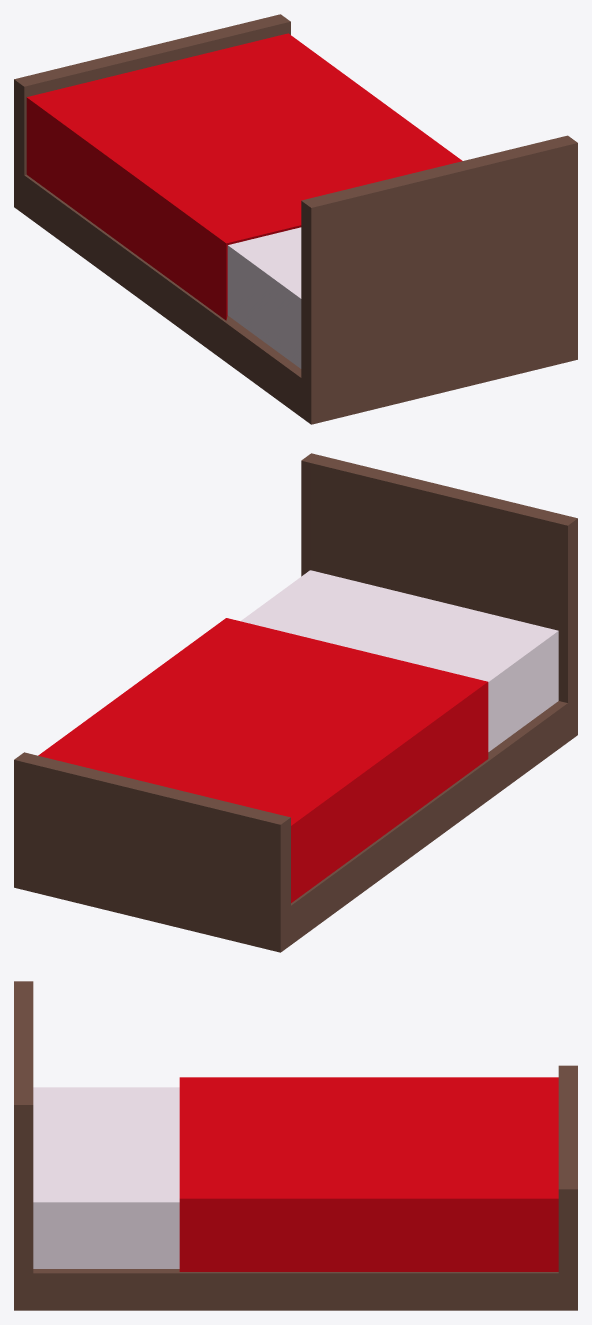
Rendered from bed.fbx.
3 renders of one model, top to bottom at view 1: azimuth 30°, elevation 25°; view 2: azimuth 150°, elevation 25°; view 3: azimuth 270°, elevation 25°, orthographic. The views are drawn at different scales.
Parts seen in each view (by area): view 1: Cube; view 2: Cube; view 3: Cube.
Boxes of the visible parts, x1=… form: Cube: x1=14, y1=14, x2=577, y2=424; Cube: x1=14, y1=453, x2=577, y2=952; Cube: x1=14, y1=981, x2=577, y2=1310.
Size of the model in its own units: 263 by 204 by 507.
